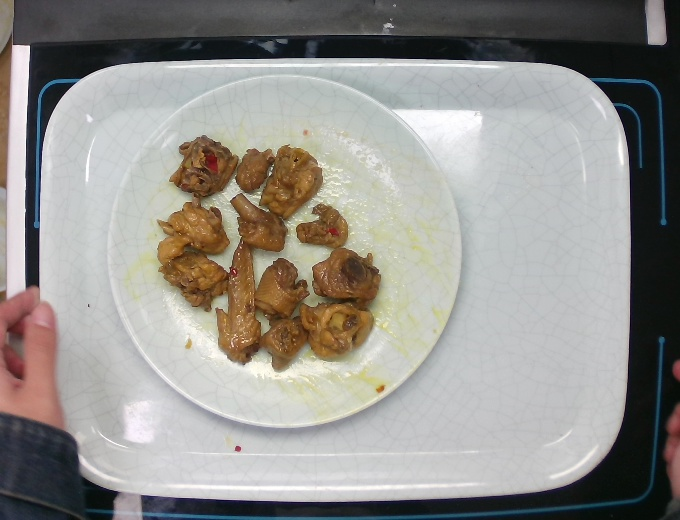JYsf-Da_Yuan_Pan: (100, 70, 466, 432)
